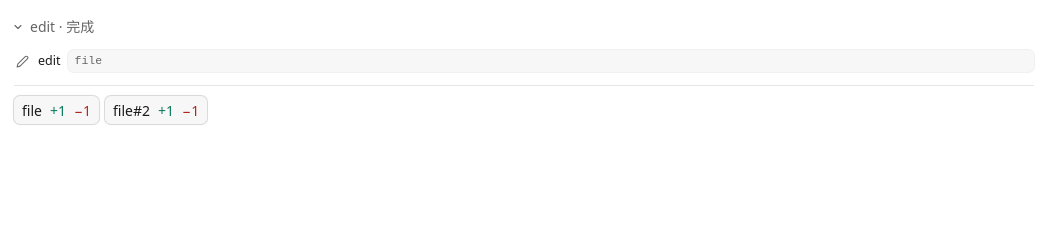
Test: ACP 工具卡（批2 任务9：omp update 真实形态） › 省略 path 的多个 diff 块不互相覆盖（ocr-review 中）
Hover over the element showing "file +1 −1" at (57, 110), box [14, 96, 99, 124]
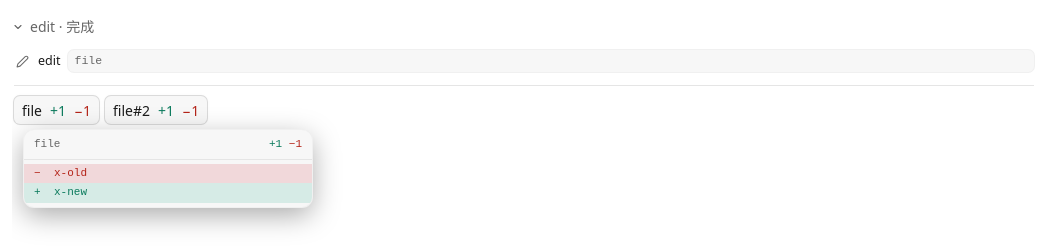
Result: the element with class "z-50" shows "x-old" at [54, 166, 87, 178]
